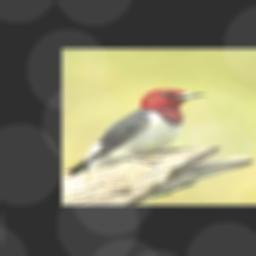Woodpecker: (66, 88, 207, 175)
